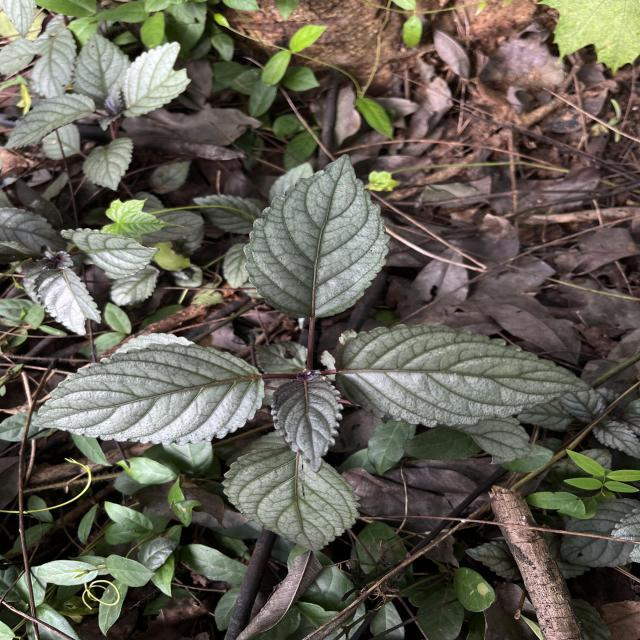Hemigraphis colorata: (334, 320, 598, 430), (30, 337, 268, 449), (238, 151, 392, 322), (218, 444, 366, 554), (265, 370, 347, 477), (55, 224, 163, 282), (0, 90, 99, 150), (80, 136, 136, 192)
